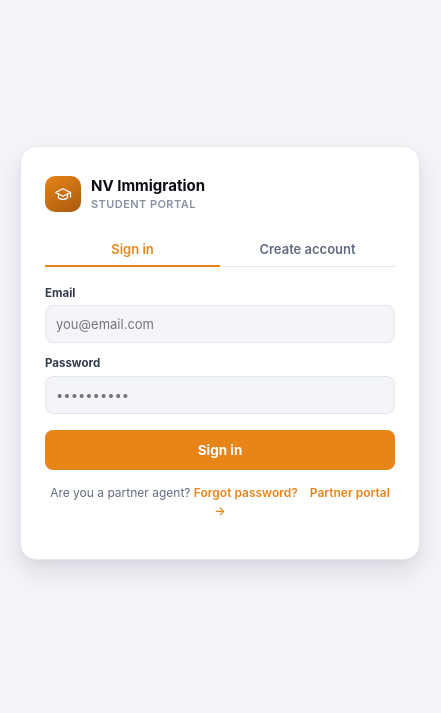
Test: student portal › creating an account › will not submit a number that cannot be one
The width and height of the screenshot is (441, 713).
Click the button "Create account": (308,250) top-left (220, 233), bottom-right (395, 267)
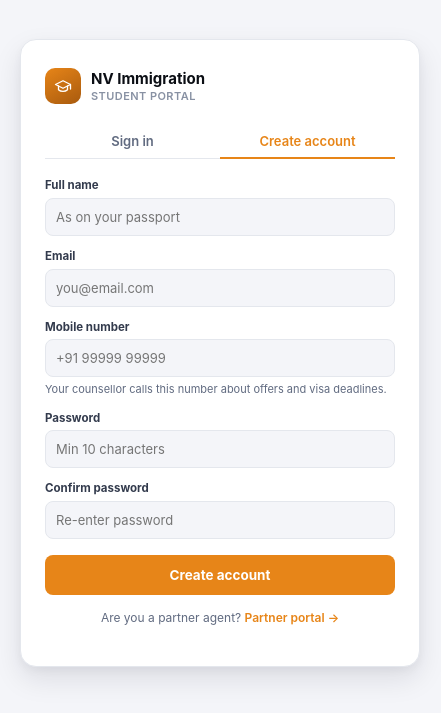
In the field labelled "Full name": (220,217) top-left (45, 198), bottom-right (395, 236), type "Asha Menon"
In the field labelled "Email": (220,288) top-left (45, 269), bottom-right (395, 307), type "asha@example.com"
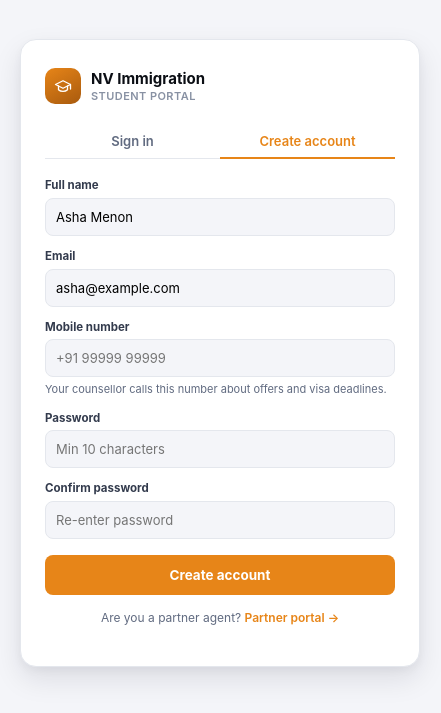
In the field labelled "Mobile number": (220,358) top-left (45, 339), bottom-right (395, 377), type "0000000000"
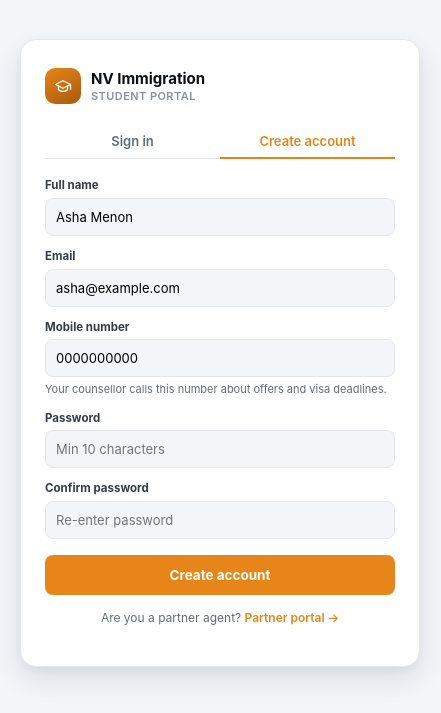
In the password field labelled "Password": (220,449) top-left (45, 430), bottom-right (395, 468), type "longenoughpassword"
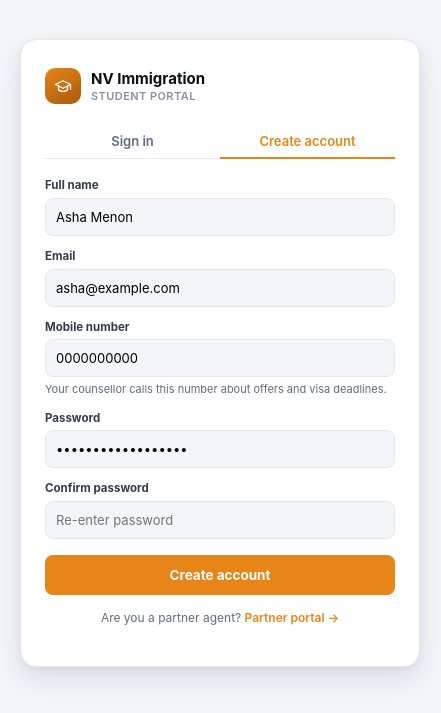
In the password field labelled "Confirm password": (220,520) top-left (45, 501), bottom-right (395, 539), type "longenoughpassword"
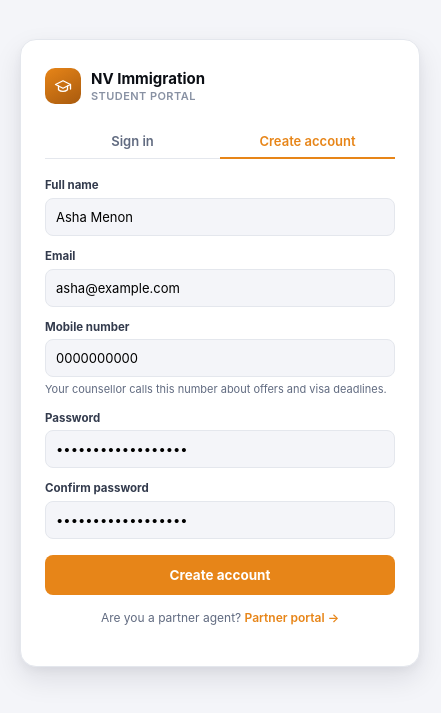
Submit the form, box top-left (45, 177), bottom-right (395, 595)
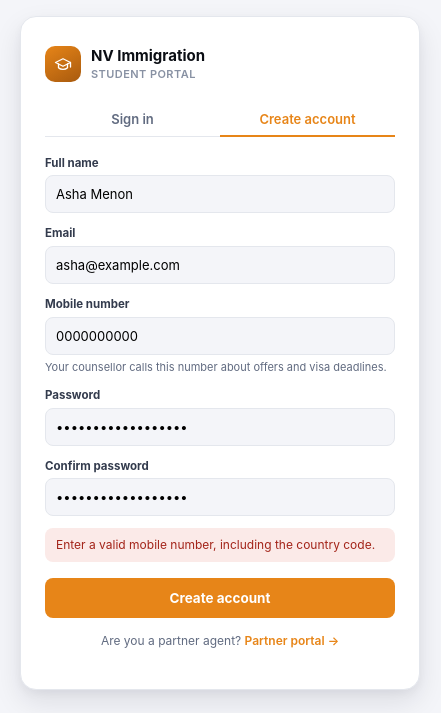
Result: the text "Enter a valid mobile number, including the country code." is shown at top-left (45, 528), bottom-right (395, 562)
